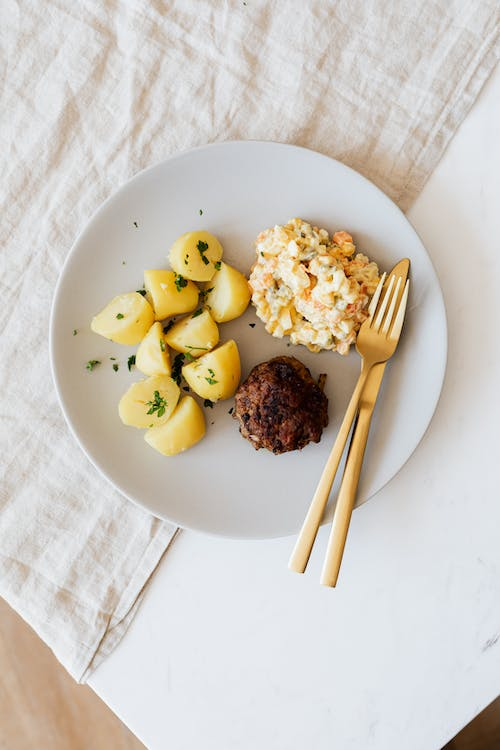knife: (315, 254, 413, 591)
